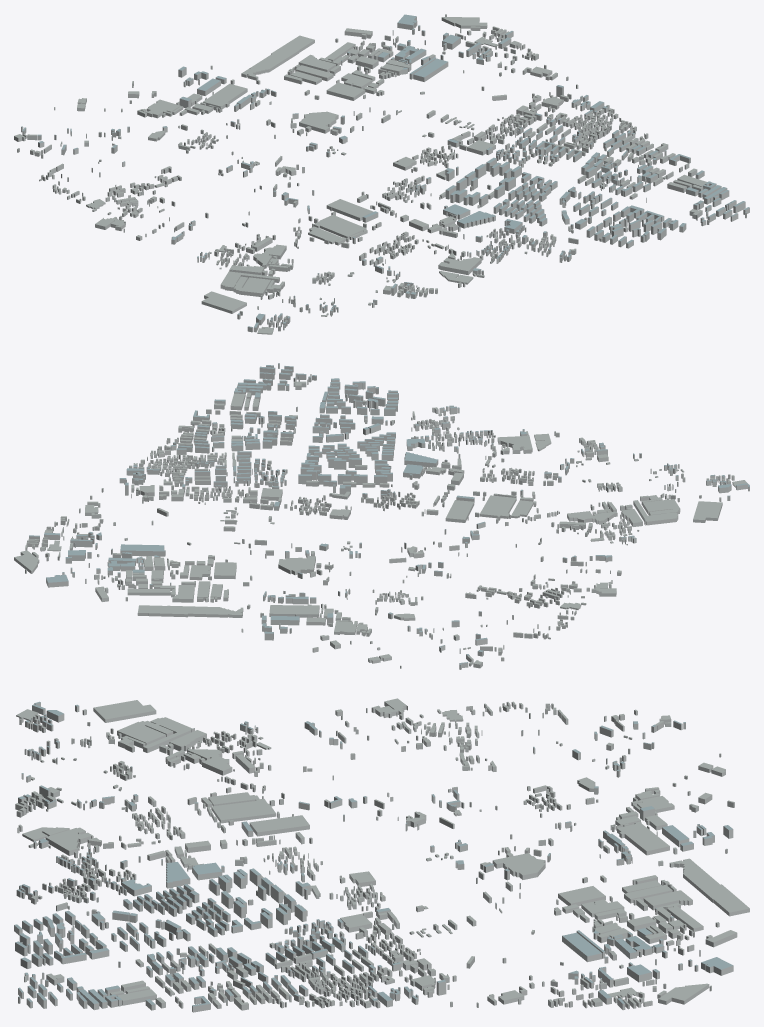
Rendered from far.glb.
3 views of the same model, one above another, from view 1: azimuth 30°, elevation 25°; view 2: azimuth 150°, elevation 25°; view 3: azimuth 270°, elevation 25° (orthographic). The views are drawn at different scales.
Size of the model in its own units: 2142 by 41.49 by 2149.
